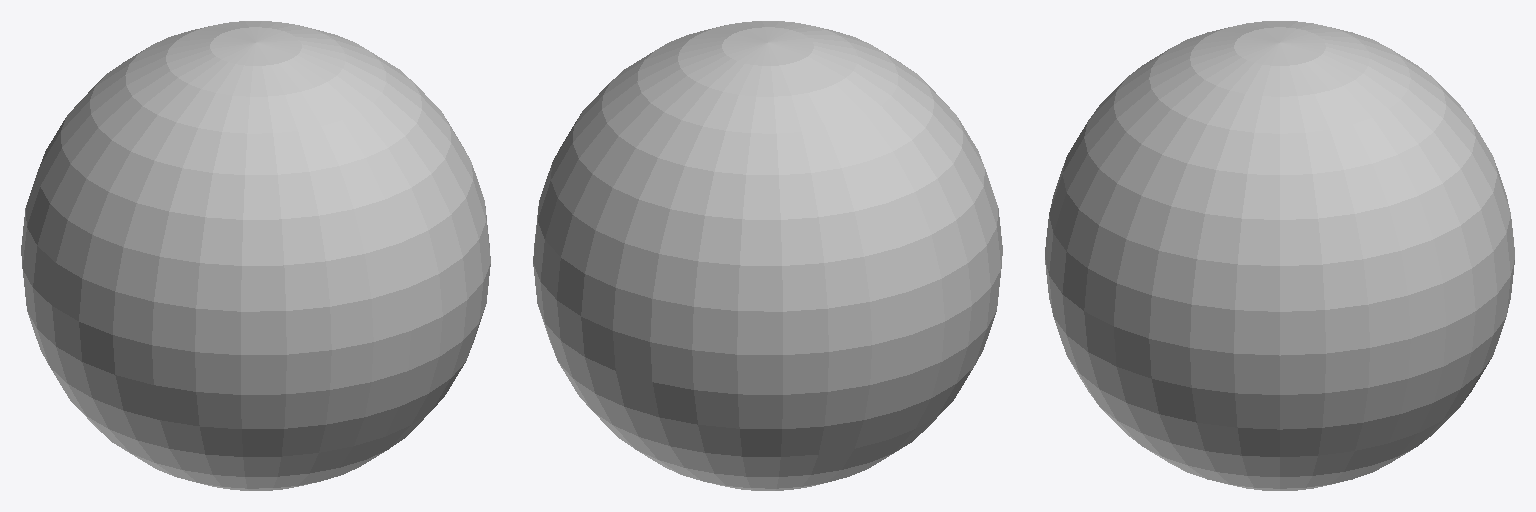
File: sphere_bulb.obj
The picture shows the model from 3 angles: view 1: azimuth 30°, elevation 25°; view 2: azimuth 150°, elevation 25°; view 3: azimuth 270°, elevation 25°; orthographic projection.
Parts seen in each view (by area): view 1: bulb_Sphere; view 2: bulb_Sphere; view 3: bulb_Sphere.
Boxes of the visible parts, x1,y1,x2,y2 form: bulb_Sphere: [21, 21, 490, 490]; bulb_Sphere: [533, 21, 1002, 490]; bulb_Sphere: [1045, 21, 1514, 490].
Bounding box in the file's own units: 0.9409 × 0.9409 × 0.9409.